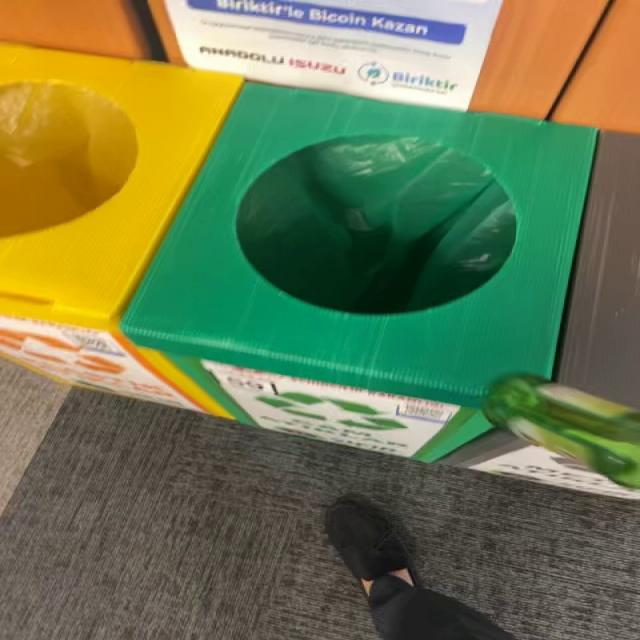glass: (484, 376, 640, 488)
